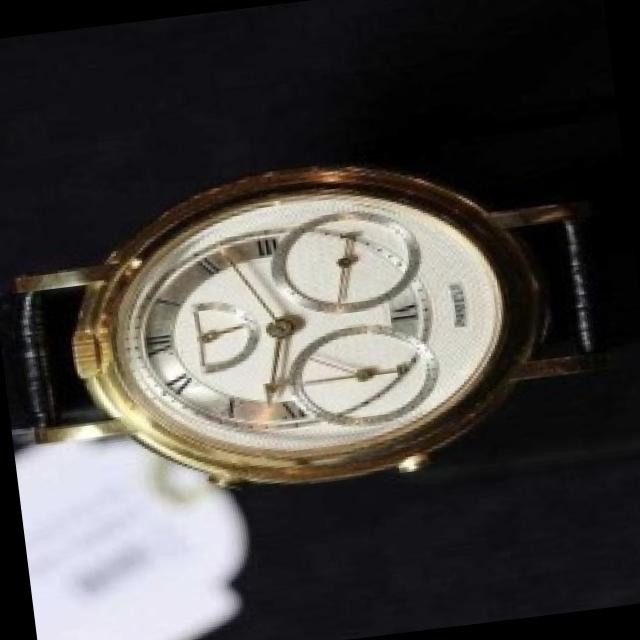saat: (0, 118, 640, 531)
